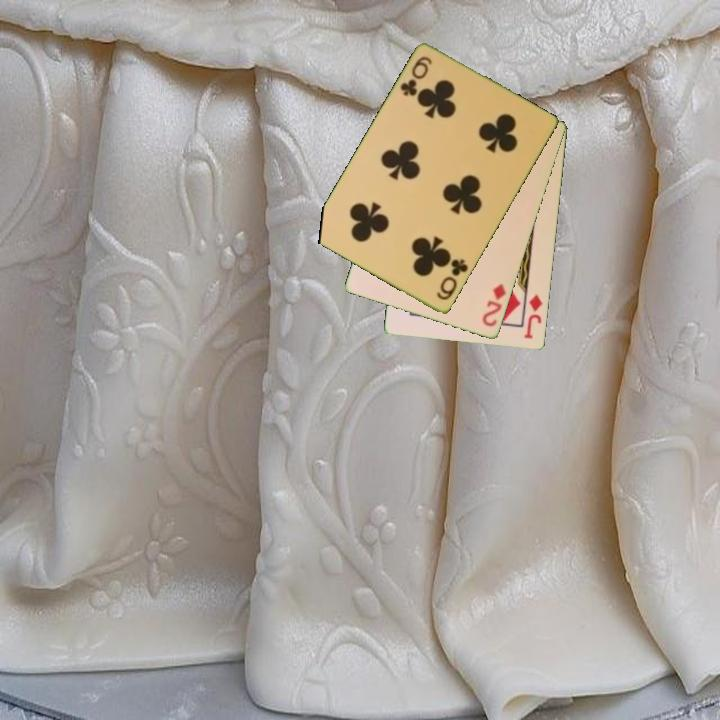2d: (479, 280, 509, 330)
6c: (433, 255, 471, 304), (396, 53, 435, 100)
Jd: (521, 291, 546, 342)
